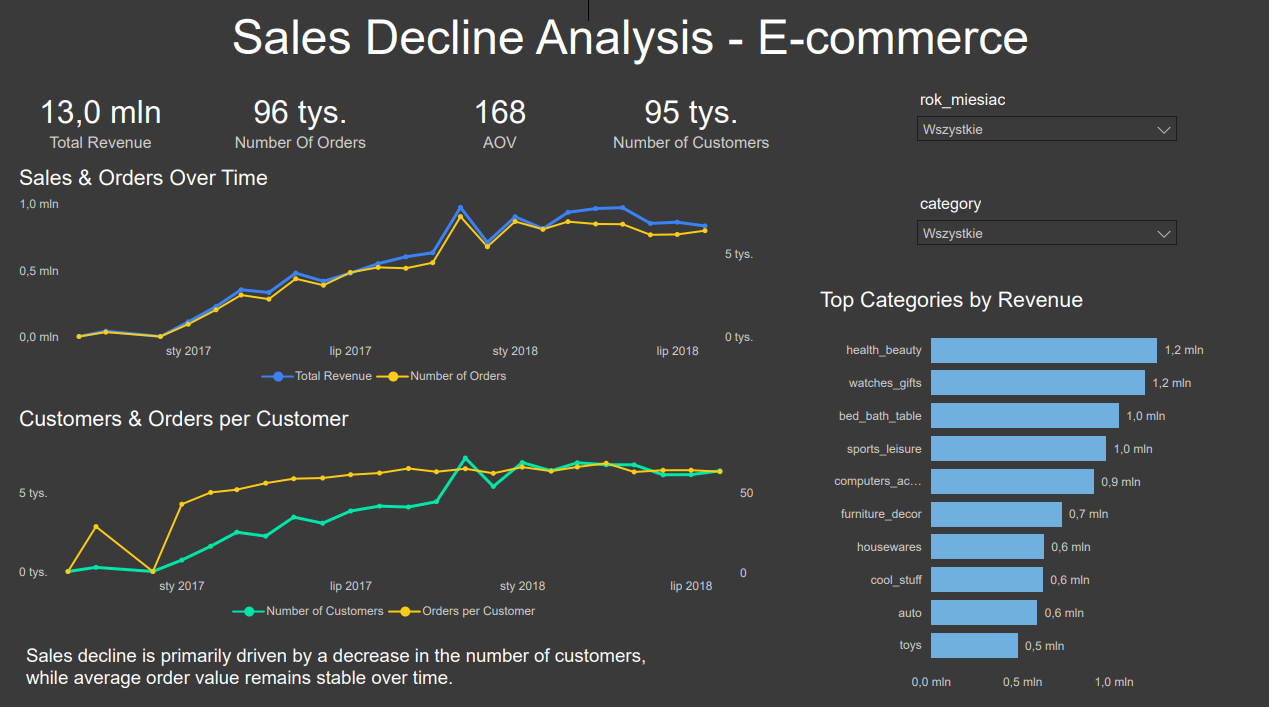

The page's visual inventory and layout, read from the dashboard file:
{"tool":"powerbi","page":{"name":"Strona 1","canvas":[1280,720],"ordinal":0},"visuals":[{"type":"card","fields":{"Values":["Sum(vw_sales_dashboard.total_revenue)"]},"box":[10,80,193,93],"z":0},{"type":"card","fields":{"Values":["Sum(vw_sales_dashboard.number_of_orders)"]},"box":[203,80,207,93],"z":1000},{"type":"card","fields":{"Values":["Avg(vw_sales_dashboard.AOV)"]},"box":[410,80,192,93],"z":2000},{"type":"card","fields":{"Values":["Sum(vw_sales_dashboard.number_of_customers)"]},"box":[602,80,191,93],"z":3000},{"type":"lineChart","title":"Sales & Orders Over Time","fields":{"Y":["Sum(vw_sales_dashboard.total_revenue)"],"Category":["vw_sales_dashboard.rok_miesiac"],"Y2":["Sum(vw_sales_dashboard.number_of_orders)"]},"box":[20,173,745,229],"z":4000},{"type":"slicer","fields":{"Values":["vw_sales_dashboard.rok_miesiac"]},"box":[913.3,93.3,280,80],"z":5000},{"type":"slicer","fields":{"Values":["vw_sales_dashboard.category"]},"box":[913.3,196.7,280,78.3],"z":6000},{"type":"lineChart","title":"Customers & Orders per Customer","fields":{"Category":["vw_sales_dashboard.rok_miesiac"],"Y":["Sum(vw_sales_dashboard.number_of_customers)"],"Y2":["Sum(vw_sales_dashboard.orders_per_customer)"]},"box":[20,414,745,223],"z":7000},{"type":"clusteredBarChart","title":"Top Categories by Revenue","fields":{"Y":["Sum(vw_sales_dashboard.total_revenue)"],"Category":["vw_sales_dashboard.category"]},"box":[821,295,414,410],"z":8000},{"type":"textbox","box":[26.7,646.7,738.3,60],"z":9000},{"type":"textbox","box":[38.3,11.7,1196.7,81.7],"z":10000}]}

Visuals, with their boxes in screenshot pixels (x1, y1, x2, y2), scaled from the page's 1280x720 canvas onto the 1269x707 screenshot:
card - Sum(vw_sales_dashboard.total_revenue): bbox=[10, 79, 201, 170]
card - Sum(vw_sales_dashboard.number_of_orders): bbox=[201, 79, 406, 170]
card - Avg(vw_sales_dashboard.AOV): bbox=[406, 79, 597, 170]
card - Sum(vw_sales_dashboard.number_of_customers): bbox=[597, 79, 786, 170]
"Sales & Orders Over Time" lineChart: bbox=[20, 170, 758, 395]
slicer - vw_sales_dashboard.rok_miesiac: bbox=[905, 92, 1183, 170]
slicer - vw_sales_dashboard.category: bbox=[905, 193, 1183, 270]
"Customers & Orders per Customer" lineChart: bbox=[20, 407, 758, 625]
"Top Categories by Revenue" clusteredBarChart: bbox=[814, 290, 1224, 692]
textbox: bbox=[26, 635, 758, 694]
textbox: bbox=[38, 11, 1224, 92]
